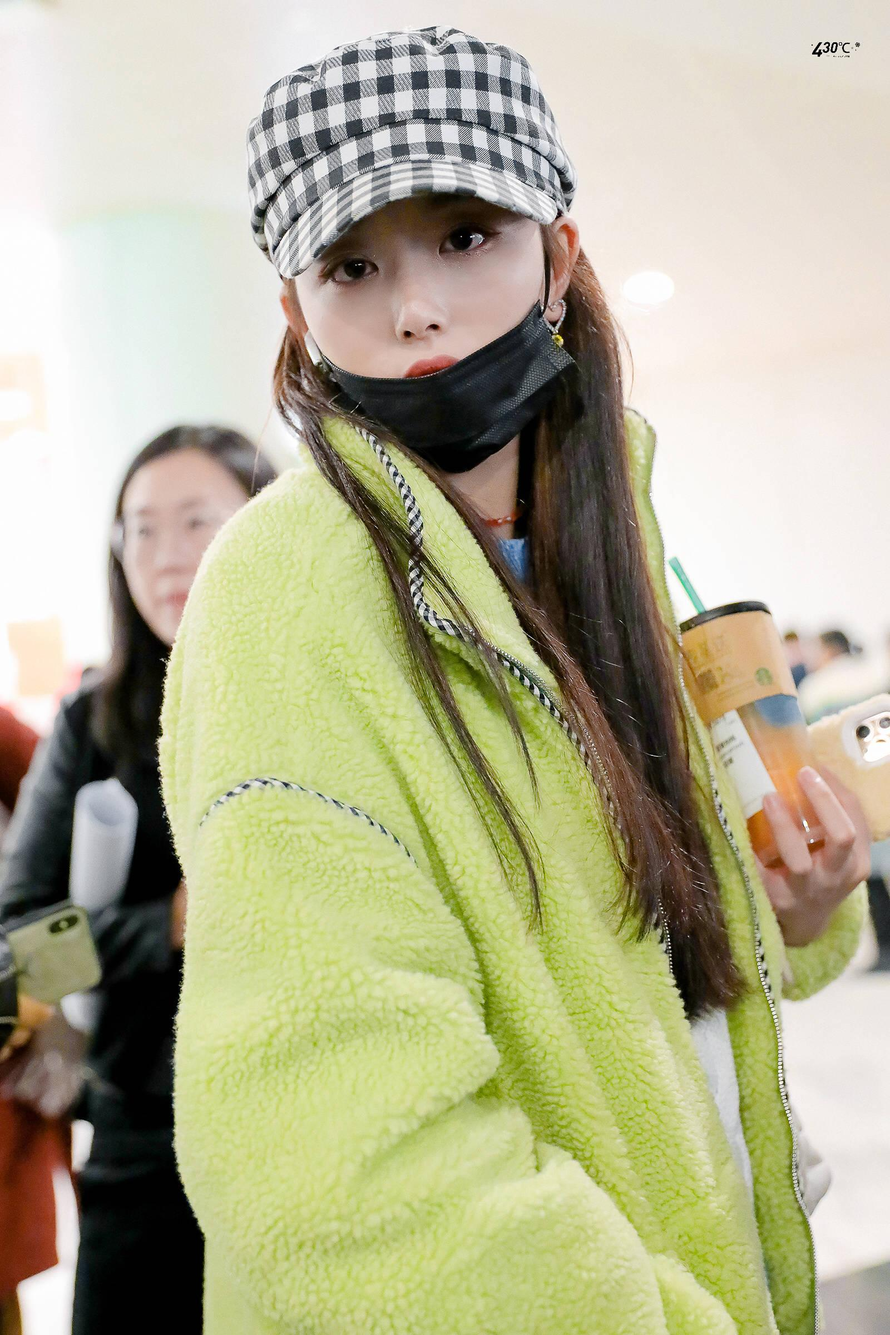NONE: (117, 486, 240, 656)
WRONG: (301, 176, 550, 474)
